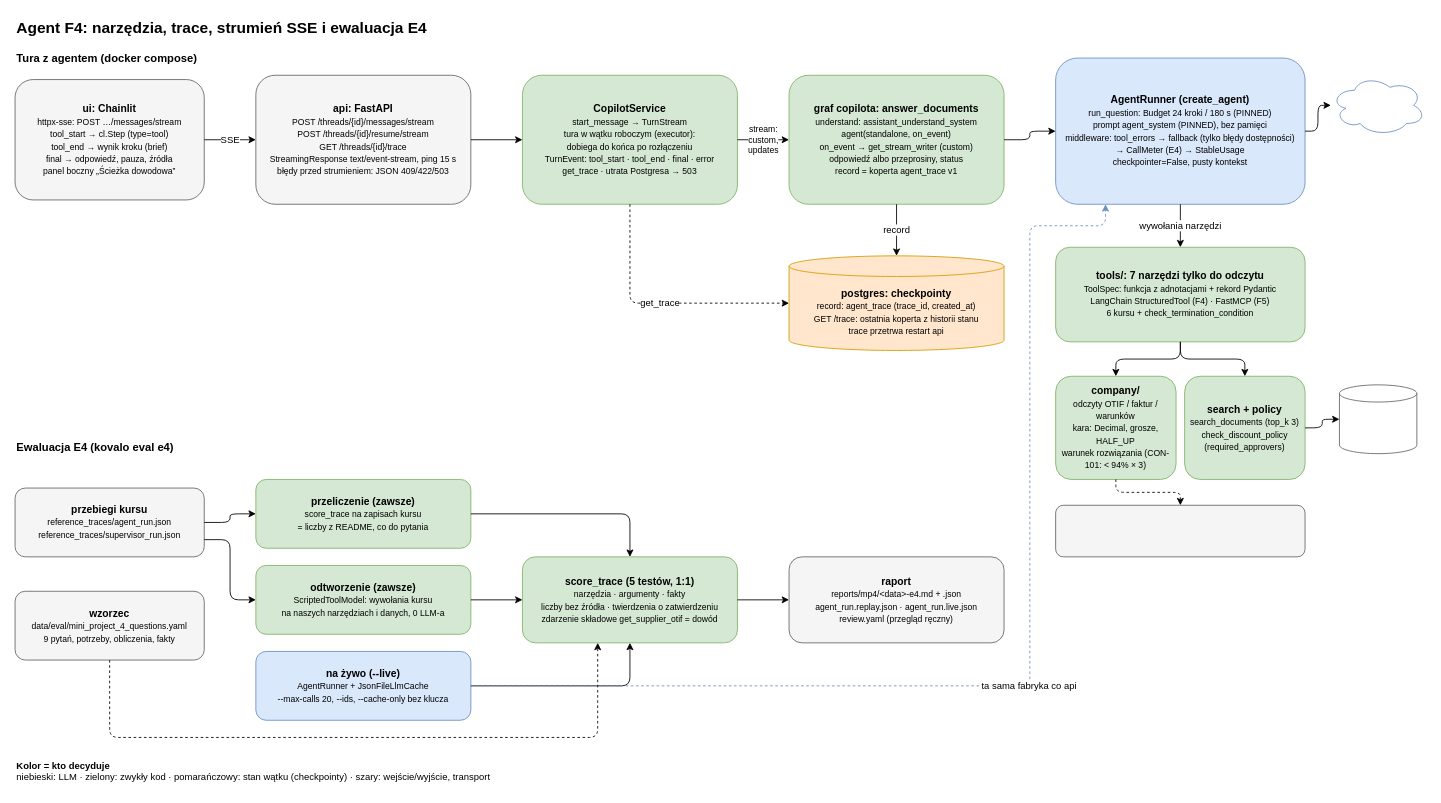
The diagram is 1441 pixels wide and 803 high, and some of its shapes have lost their labels. Each missing label, with the box of its shape:
dane (tylko odczyt) data/company/* config: company.termination_terms: (1055, 504, 1305, 557)
Gemini API Flash-Lite → Flash: (1330, 74, 1425, 135)
pgvector kovalo_ctx: (1339, 384, 1417, 454)
